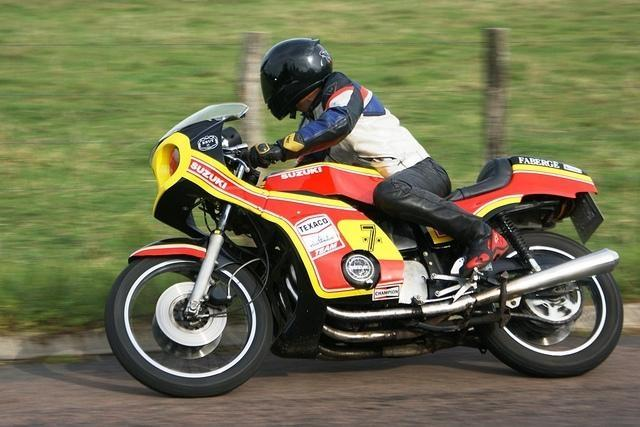motorcycle: (107, 102, 628, 402)
